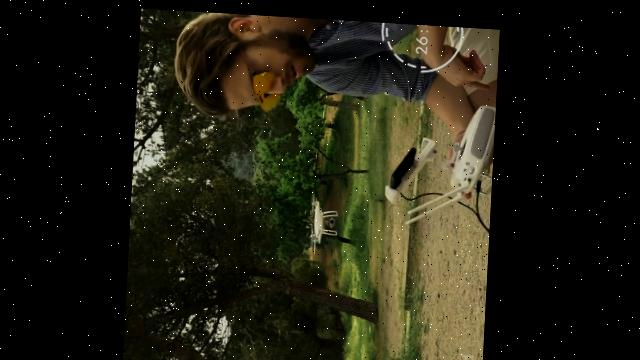drone: (307, 184, 343, 255)
